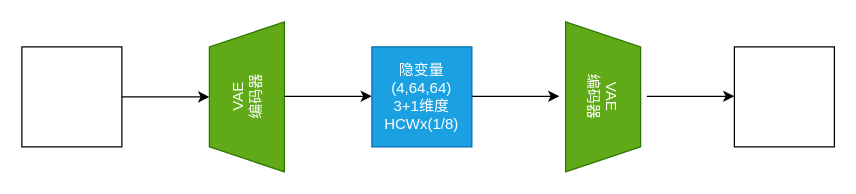
Image size: 856x194. Some labels were removed from this diagram. The shapes that lost their labels are listed below. From the top down, each one's centre as x and y in pixels, then its label:
(71,96): 输入图像 (3,512,512)
(783,96): 解码后图像 (3,512,512)
